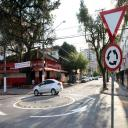Rotatoria: (103, 43, 123, 72), (124, 65, 126, 71)
preferencia: (98, 5, 128, 44), (123, 57, 126, 66)
